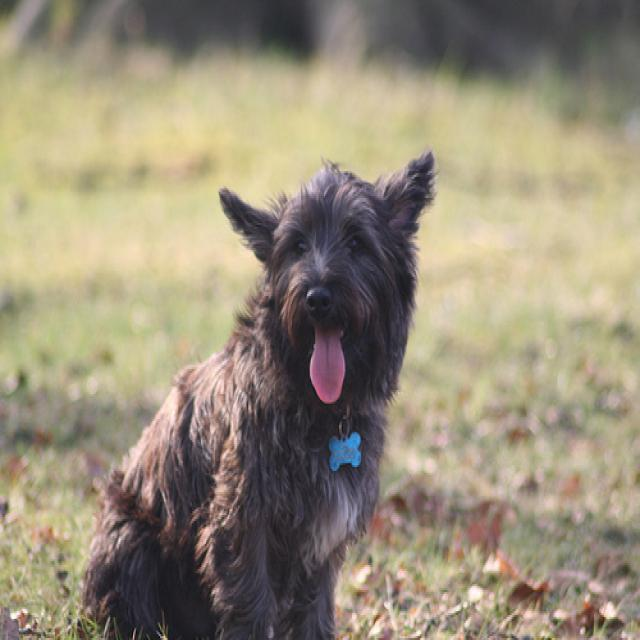dog-scottish_terrier: (77, 138, 448, 636)
